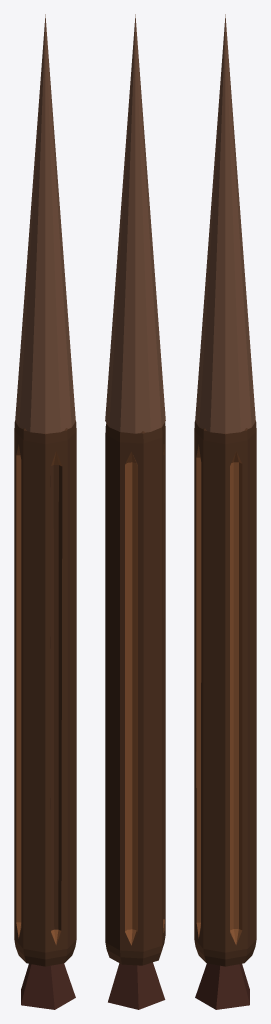
Rendered from Wand 528.glb.
The picture shows the model from 3 angles, left to right: view 1: azimuth 90°, elevation 25°; view 2: azimuth 150°, elevation 25°; view 3: azimuth 270°, elevation 25°; orthographic projection.
Parts seen in each view (by area): view 1: GeneratedWand; view 2: GeneratedWand; view 3: GeneratedWand.
Part boxes in pixels (x1,y1,x2,y2): GeneratedWand: [14, 14, 76, 1009]; GeneratedWand: [105, 14, 165, 1009]; GeneratedWand: [194, 14, 256, 1009].
Bounding box in the file's own units: 0.0289 × 0.5037 × 0.0289.
